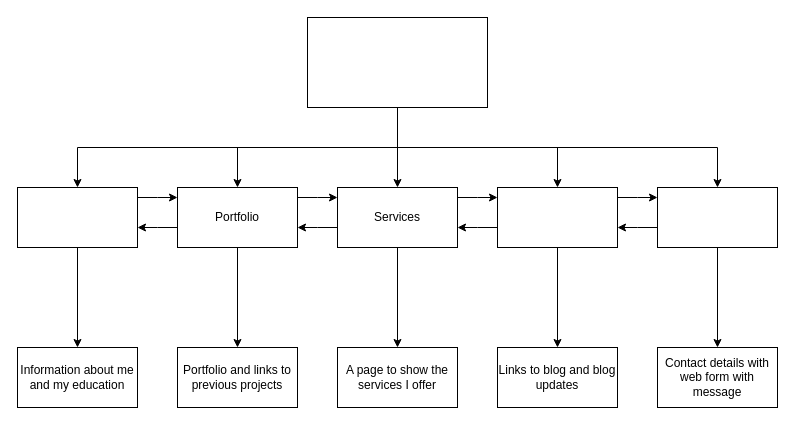
This 795x425 diagram has some shape labels left out. The centre of each missing label's shape, as x and y in pixels:
"About" goes at point 77,217.
"Blog" goes at point 557,217.
"Contact" goes at point 717,217.
"Home Page" goes at point 397,62.
